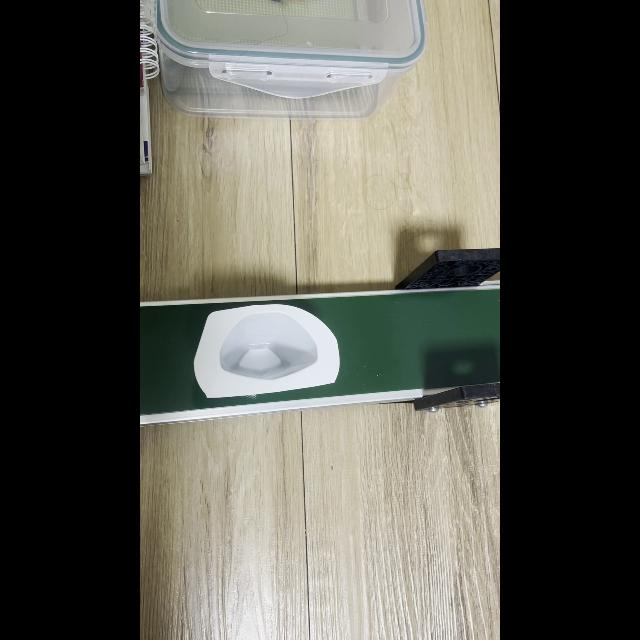clean: (200, 314, 334, 394)
